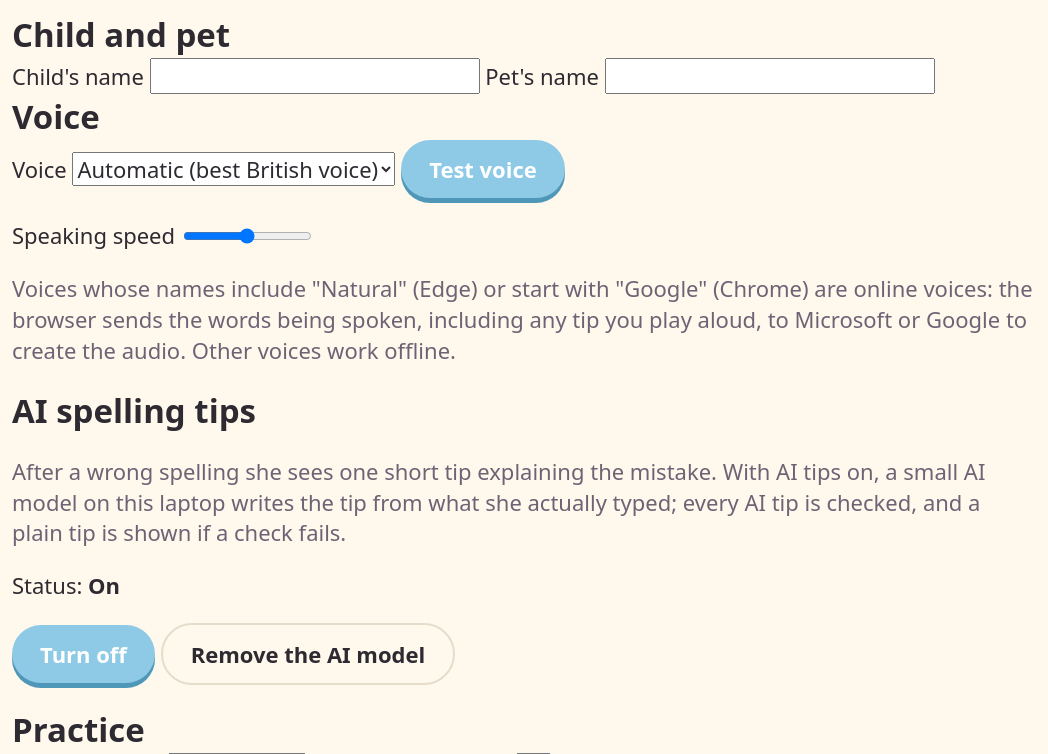
Test: SettingsTab › AI spelling tips › removes the model after confirming
Click the button "Remove the AI model".
click(308, 654)  # box top-left (161, 623), bottom-right (455, 685)
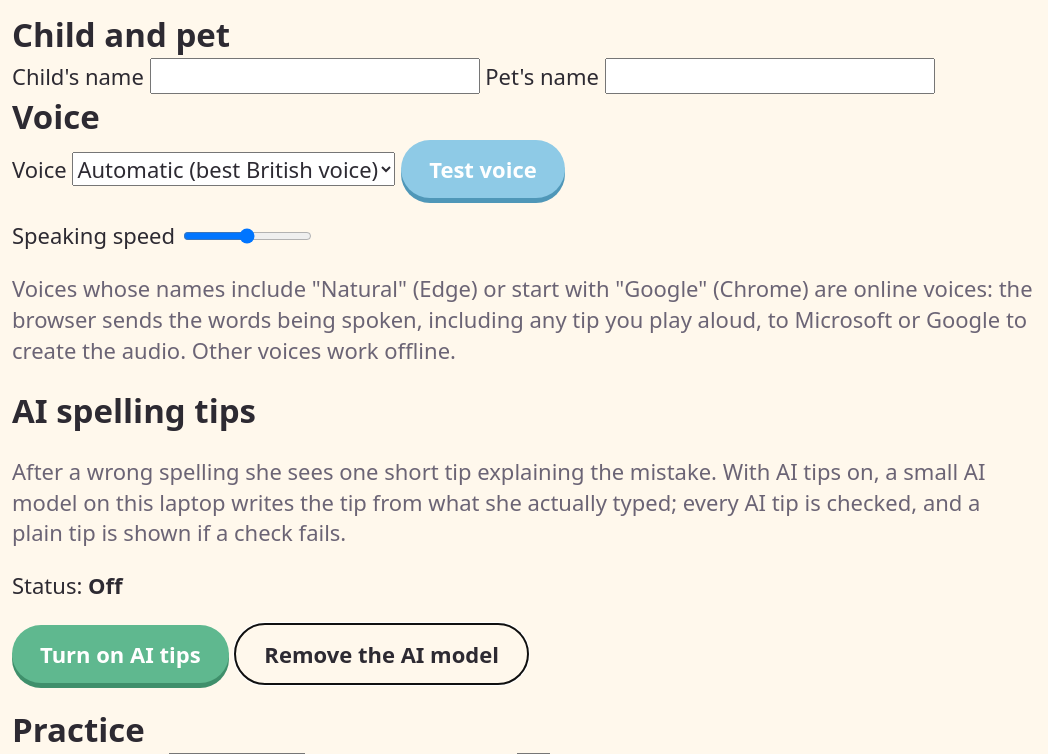
Check: the text "Off" is shown, box top-left (88, 570), bottom-right (123, 600)
